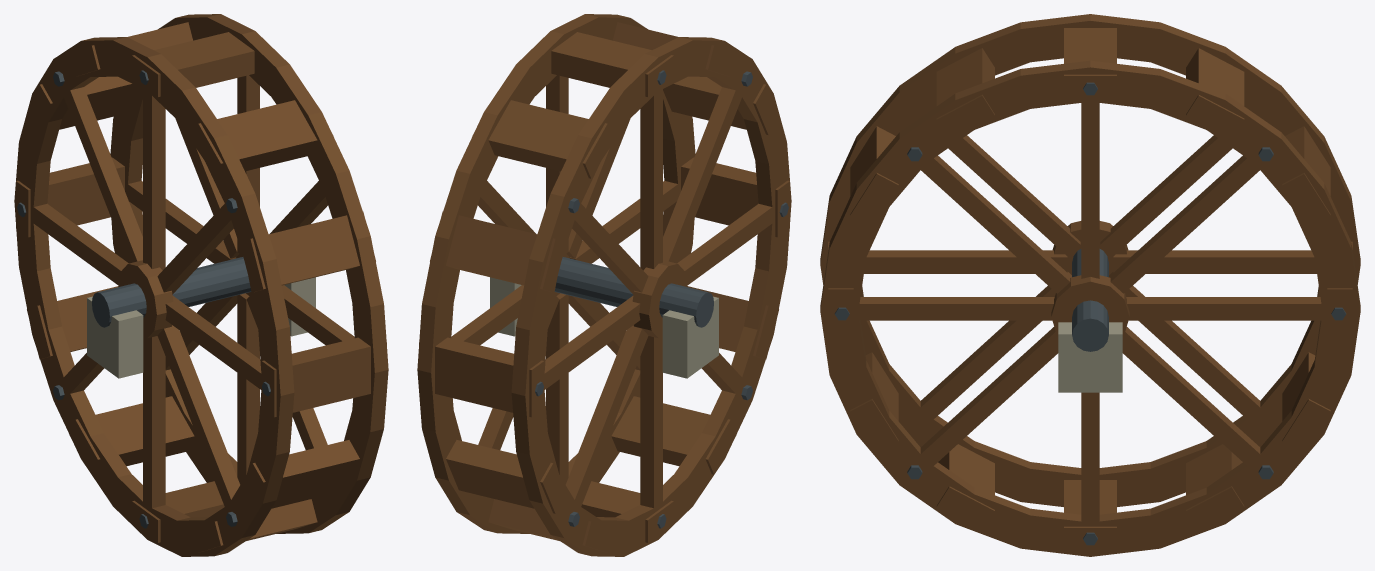
Rendered from waterwheel.glb.
3 views of the same model, side by side, from view 1: azimuth 30°, elevation 25°; view 2: azimuth 150°, elevation 25°; view 3: azimuth 270°, elevation 25° (orthographic).
Parts seen in each view (by area): view 1: Wheel, FixedAxle; view 2: Wheel, FixedAxle; view 3: Wheel, FixedAxle.
Part boxes in pixels (x1,y1,x2,y2): Wheel: (14, 14, 388, 556); FixedAxle: (87, 257, 315, 378); Wheel: (417, 14, 791, 556); FixedAxle: (490, 257, 718, 378); Wheel: (820, 14, 1360, 556); FixedAxle: (1058, 249, 1122, 392).
Size of the model in its own units: 2.05 by 4.7 by 4.7.
